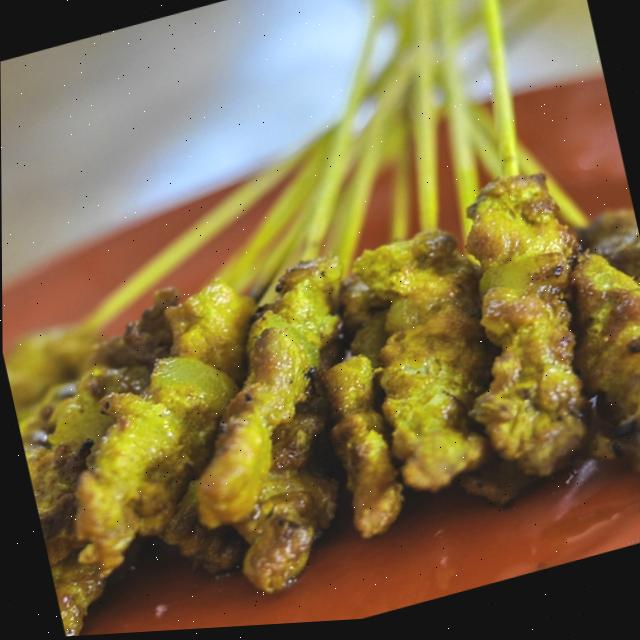牛肉菜式: (0, 19, 640, 640)
